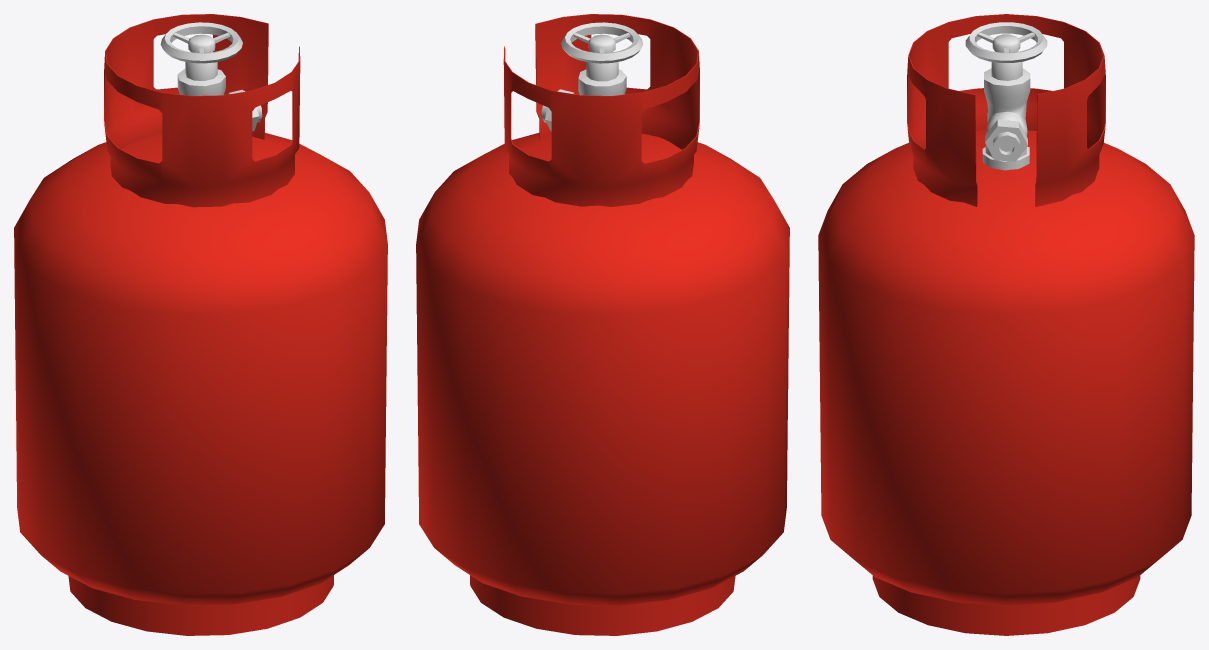
File: propane.fbx
3 views of the same model, side by side, from view 1: azimuth 30°, elevation 25°; view 2: azimuth 150°, elevation 25°; view 3: azimuth 270°, elevation 25° (orthographic).
Parts seen in each view (by area): view 1: PropaneTank_low, Protective cover, Gas valve; view 2: PropaneTank_low, Protective cover, Gas valve; view 3: PropaneTank_low, Protective cover, Gas valve.
Boxes of the visible parts, left/top/right/bottom form: PropaneTank_low: left=14, top=132, right=387, bottom=635; Protective cover: left=104, top=14, right=300, bottom=207; Gas valve: left=160, top=22, right=262, bottom=131; PropaneTank_low: left=416, top=133, right=789, bottom=635; Protective cover: left=503, top=14, right=699, bottom=206; Gas valve: left=541, top=22, right=643, bottom=131; PropaneTank_low: left=818, top=129, right=1194, bottom=635; Protective cover: left=907, top=14, right=1105, bottom=206; Gas valve: left=965, top=22, right=1047, bottom=170.
Bounding box in the file's own units: 28.87 × 45.89 × 28.87.
